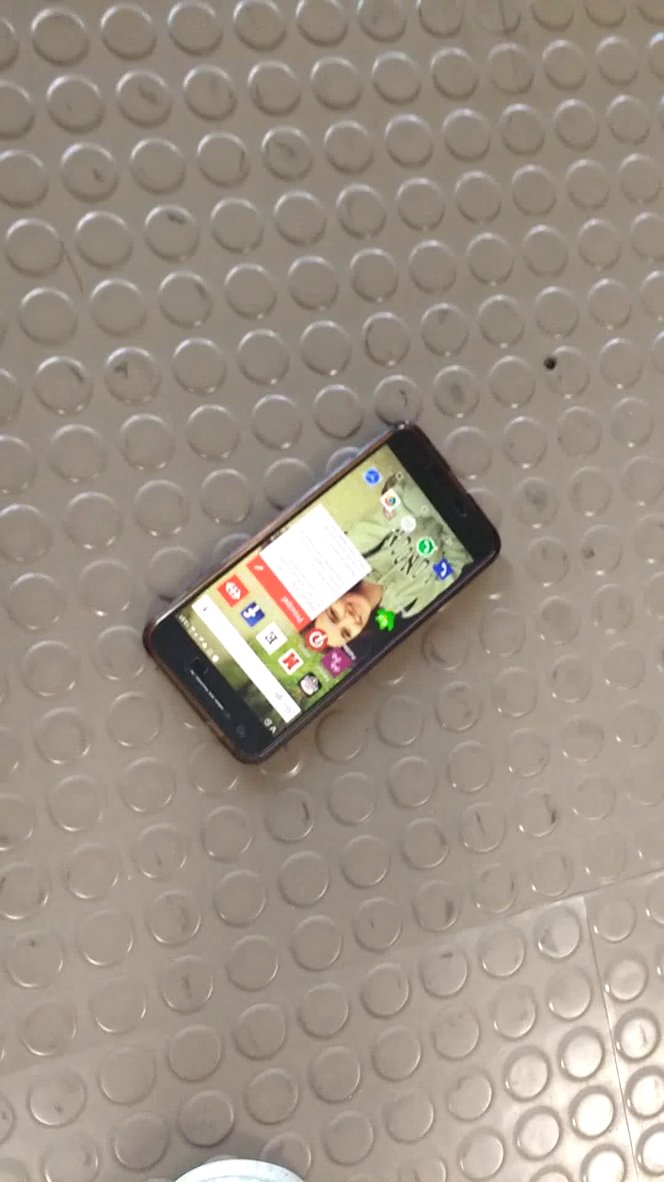phone: (135, 406, 514, 778)
